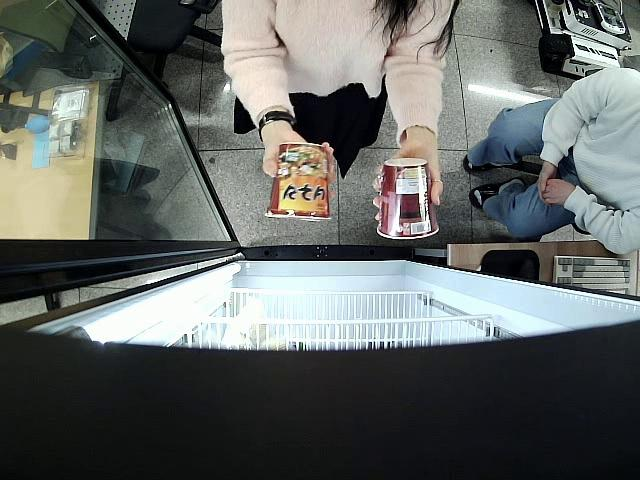00_hand: (373, 140, 443, 229), (261, 127, 337, 203)
06_nuguri_S: (373, 157, 440, 240), (267, 141, 333, 223)
